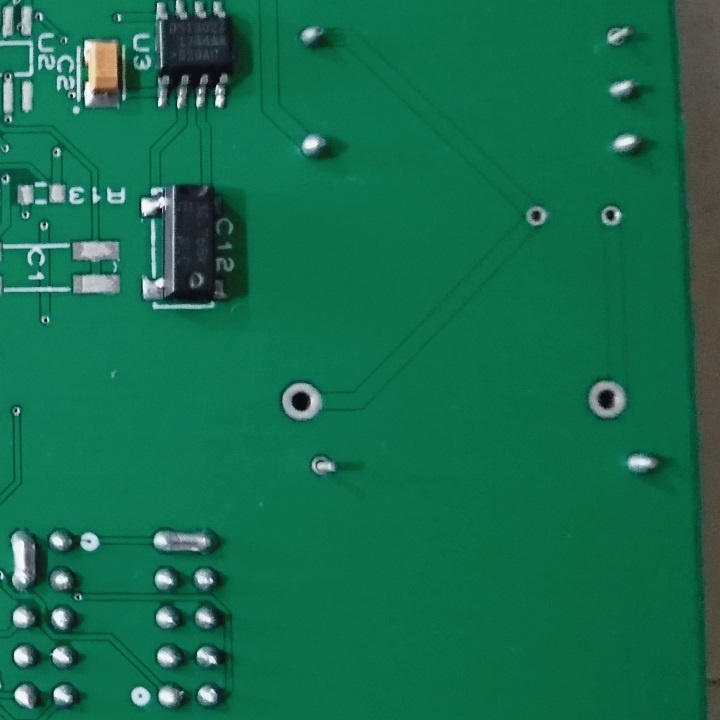F: (581, 372, 632, 423), (276, 376, 327, 423), (601, 16, 636, 53), (307, 449, 341, 478), (521, 199, 550, 229), (595, 202, 624, 229)
P: (149, 525, 222, 560), (7, 524, 42, 596)
